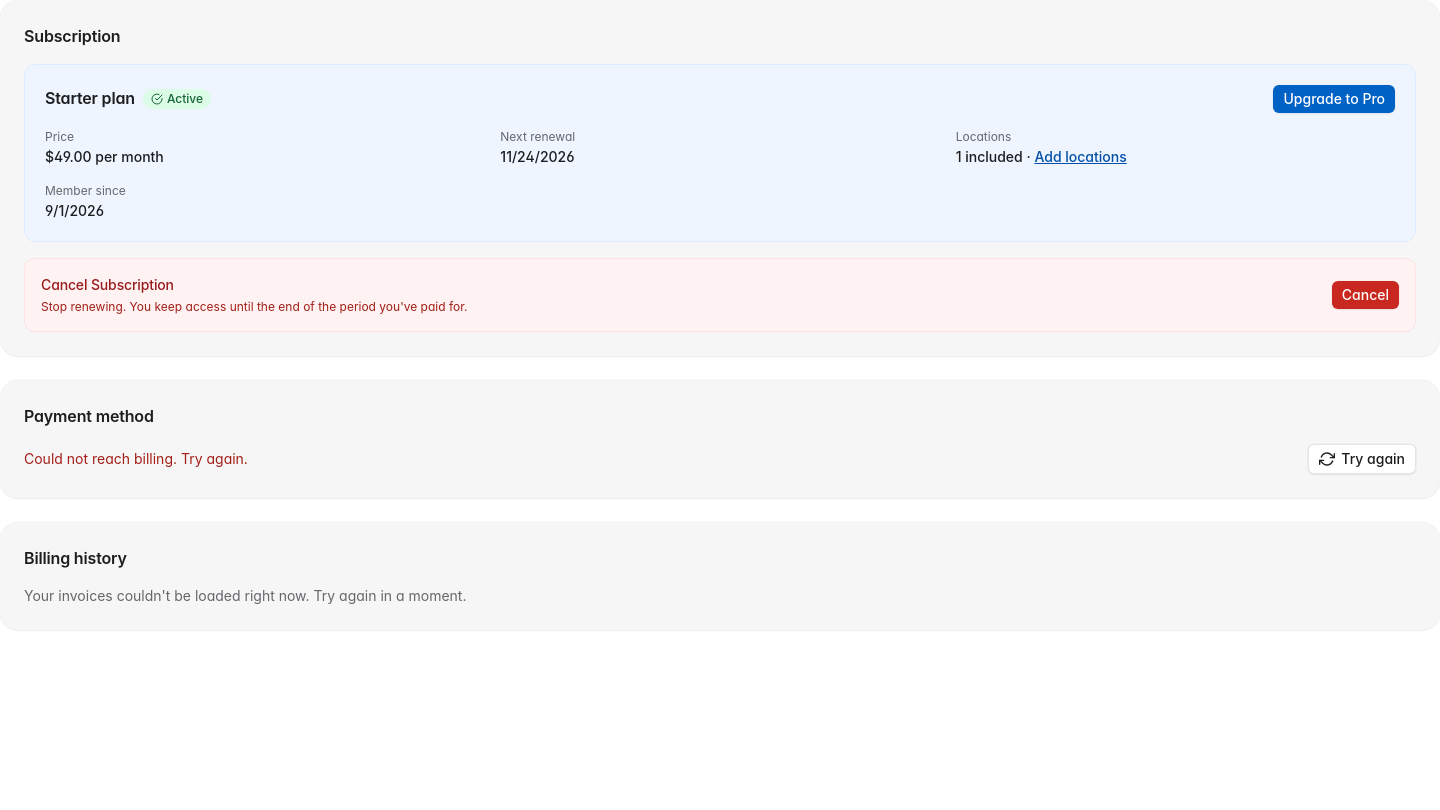
Test case: payment method › shows the reason billing could not be loaded and tries again on request
expect the text "Could not reach billing. Try again." is shown: met, box [24,449,248,469]
What coordinates should you click on to do the following:
click the button "Try again"
I would click on:
 (1362, 459)
Its box is [1308,444,1416,474].
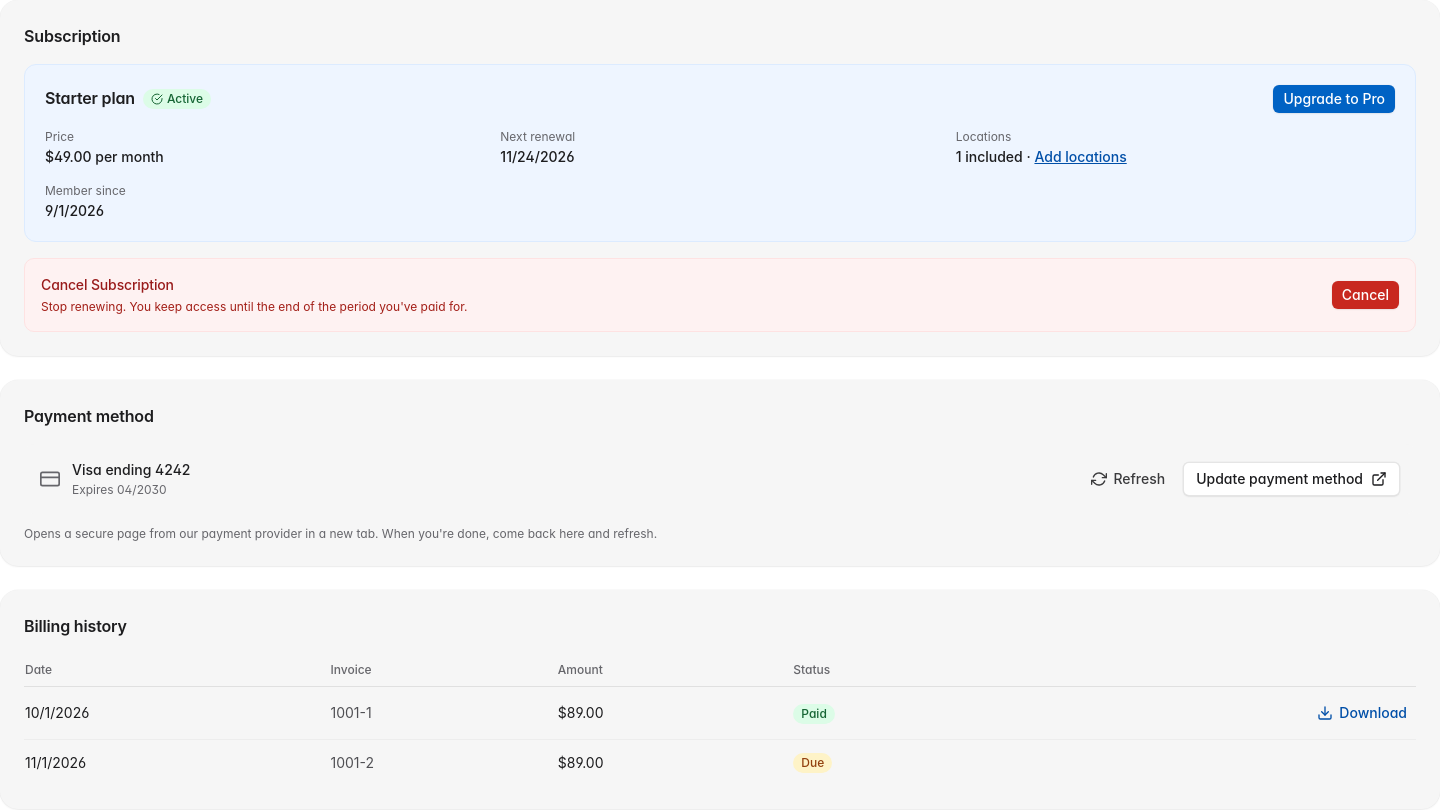
expect the text "Visa ending 4242" is shown: met, box [72,460,190,480]
